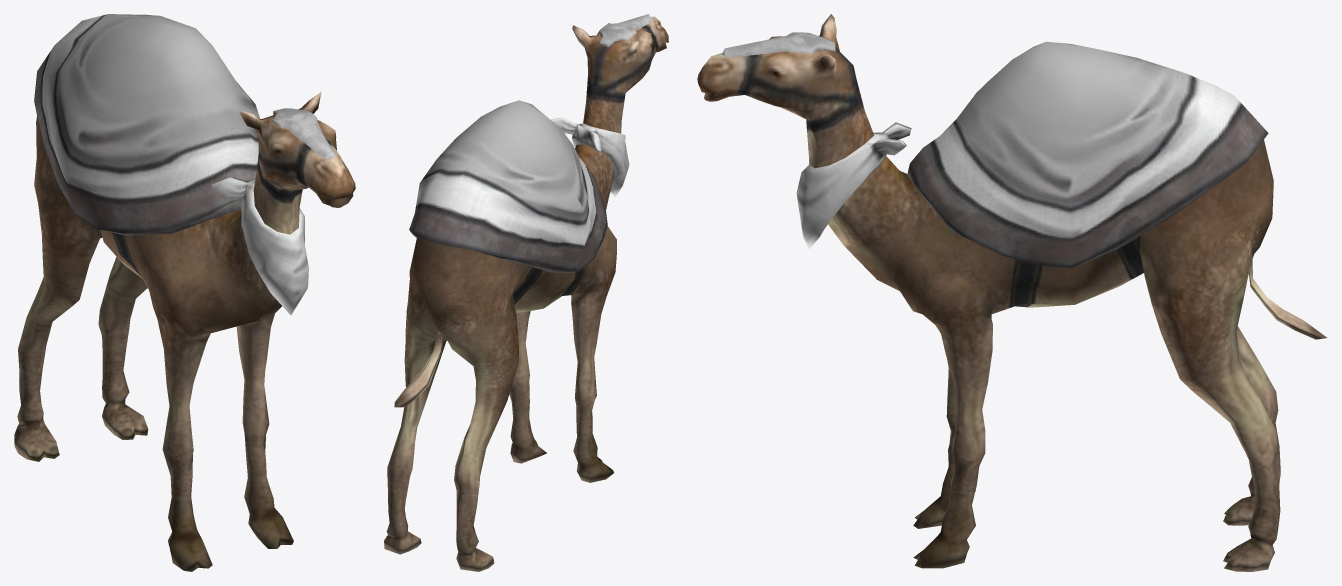
Rendered from body-base.glb.
3 views of the same model, side by side, from view 1: azimuth 30°, elevation 25°; view 2: azimuth 150°, elevation 25°; view 3: azimuth 270°, elevation 25° (orthographic). The views are drawn at different scales.
Size of the model in its own units: 1.2 by 2.92 by 3.29.
1 material, 1 textured.
